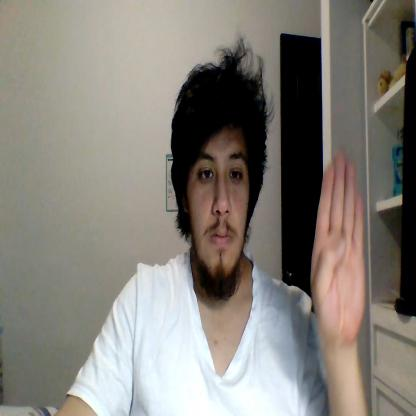B: (310, 148, 364, 342)
